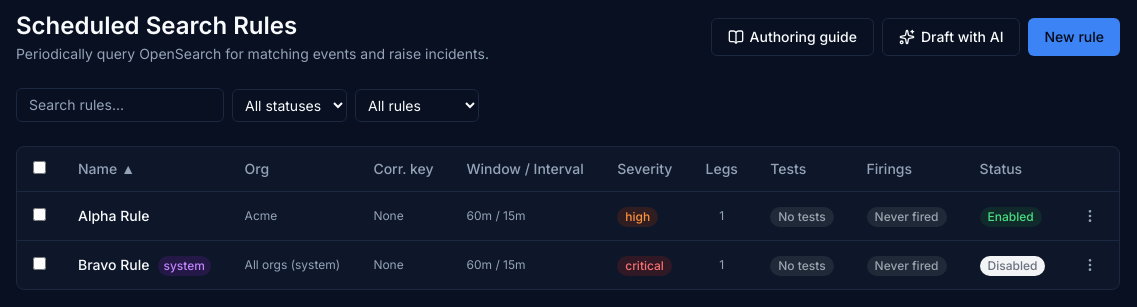
it: SearchRulesAdmin — list affordances › filters by organization (system vs org)
Expected: the button "Alpha Rule" is shown, [78,206,150,226]
Select "System rules" in the dropdown named "Organization filter" at x=417, y=105, box [355,88,479,122]
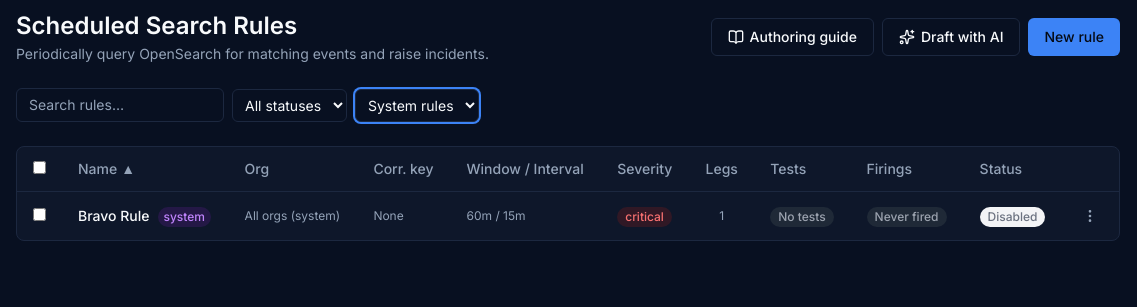
Expected: the button "Bravo Rule" is shown, [78,206,150,226]
Now the button "Alpha Rule" is gone
